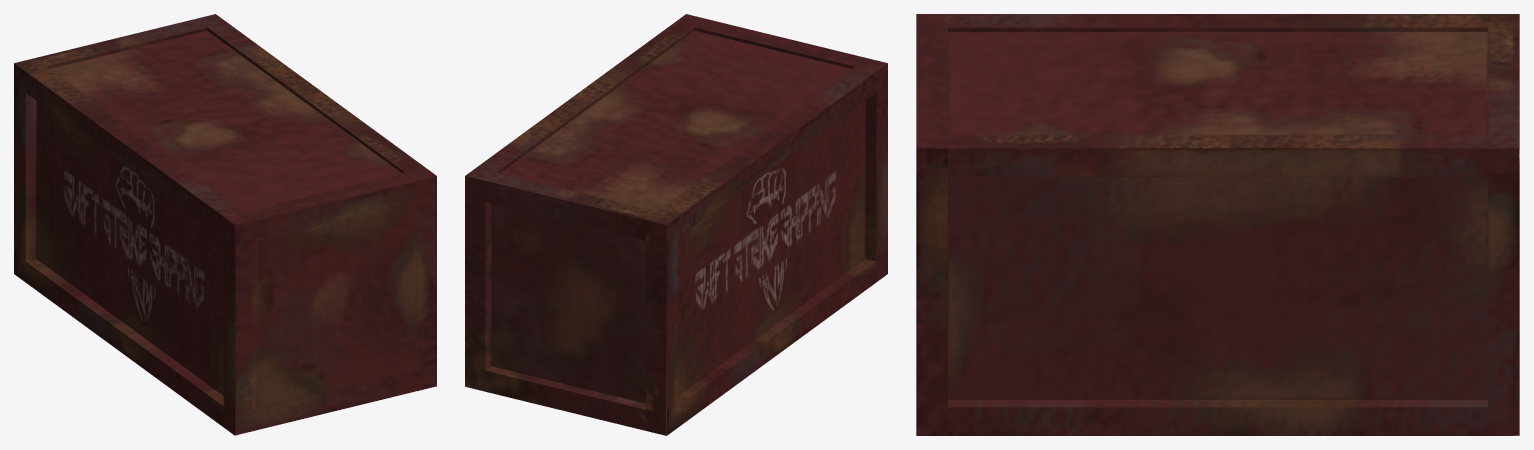
Rendered from Shiping Container.dae.
3 renders of one model, left to right at view 1: azimuth 30°, elevation 25°; view 2: azimuth 150°, elevation 25°; view 3: azimuth 270°, elevation 25°, orthographic. The views are drawn at different scales.
Parts seen in each view (by area): view 1: pPlane1; view 2: pPlane1; view 3: pPlane1.
Boxes of the visible parts, bbox=[...] form: pPlane1: bbox=[14, 14, 436, 435]; pPlane1: bbox=[465, 14, 887, 435]; pPlane1: bbox=[916, 14, 1519, 435].
Bounding box in the file's own units: 10 × 10 × 19.
